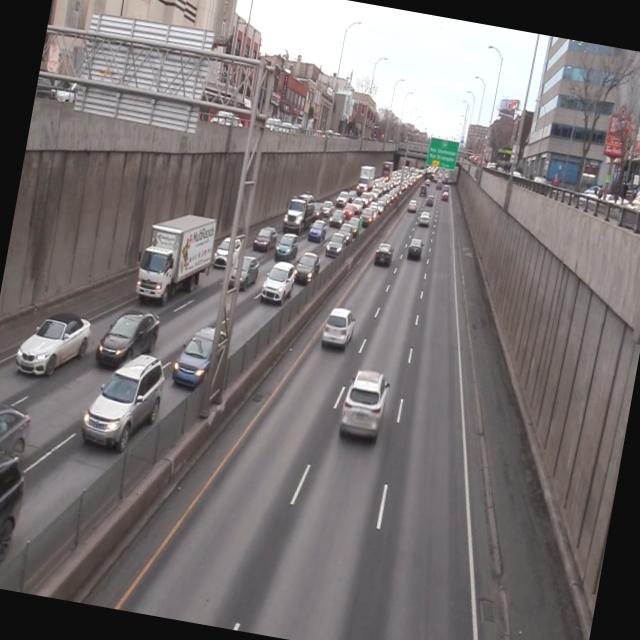Vehicle: (79, 348, 167, 458), (132, 206, 215, 314), (12, 304, 93, 388), (170, 324, 234, 396), (336, 365, 392, 445), (96, 306, 160, 371), (320, 304, 356, 353), (260, 258, 296, 306), (225, 252, 260, 294), (280, 194, 316, 233), (211, 231, 241, 270), (292, 250, 322, 288), (272, 233, 300, 264), (251, 224, 278, 255), (372, 242, 394, 268), (326, 232, 346, 258), (406, 237, 424, 263), (308, 220, 328, 243), (418, 210, 432, 228), (406, 198, 418, 214)
